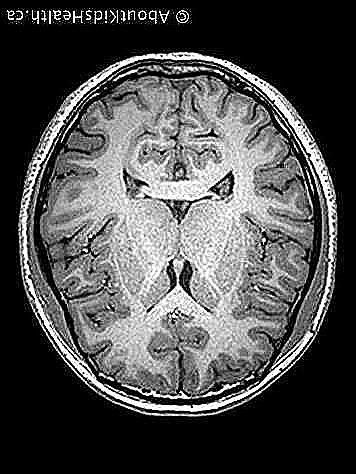Normal_Brain: (3, 2, 356, 474)
